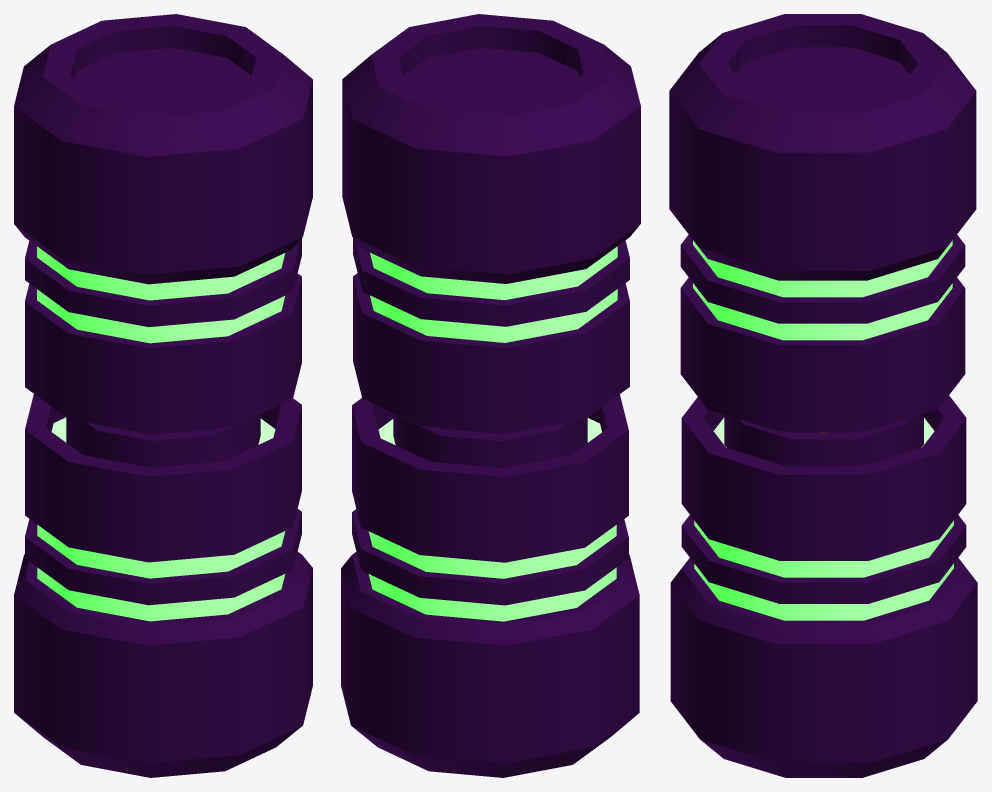
File: Enchufe_AssestsConcert.fbx
3 renders of one model, left to right at view 1: azimuth 30°, elevation 25°; view 2: azimuth 150°, elevation 25°; view 3: azimuth 270°, elevation 25°, orthographic.
Parts seen in each view (by area): view 1: Receptor, Conector; view 2: Receptor, Conector; view 3: Receptor, Conector.
Boxes of the visible parts, x1,y1,x2,y2 form: Receptor: (14, 14, 312, 434); Conector: (14, 394, 312, 777); Receptor: (342, 14, 640, 433); Conector: (341, 394, 639, 777); Receptor: (669, 14, 976, 432); Conector: (670, 395, 977, 777).
Size of the model in its own units: 206 by 515 by 217.
